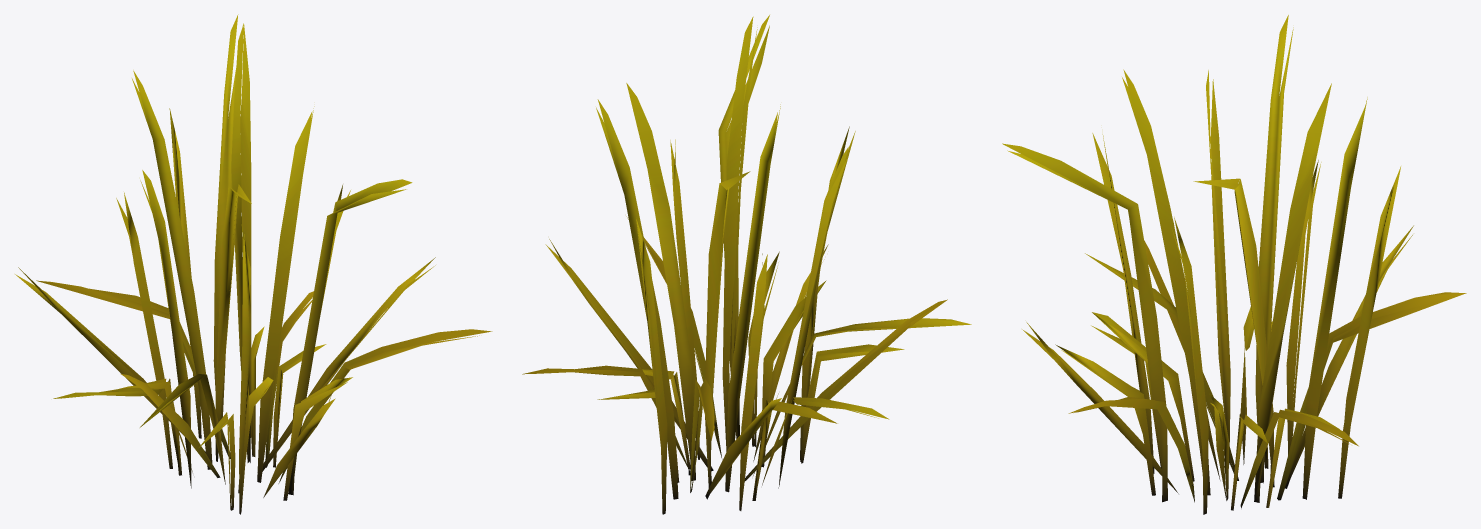
File: rumput-kecil-2.glb
The picture shows the model from 3 angles, left to right: view 1: azimuth 30°, elevation 25°; view 2: azimuth 150°, elevation 25°; view 3: azimuth 270°, elevation 25°; orthographic projection. The views are drawn at different scales.
Parts seen in each view (by area): view 1: Grass_Wispy_Tall; view 2: Grass_Wispy_Tall; view 3: Grass_Wispy_Tall.
Boxes of the visible parts, x1,y1,x2,y2 form: Grass_Wispy_Tall: [15, 14, 492, 514]; Grass_Wispy_Tall: [522, 15, 971, 514]; Grass_Wispy_Tall: [1002, 15, 1466, 514].
Size of the model in its own units: 0.913 by 0.9929 by 0.9533.
Materials: 1 (1 with a texture image).
